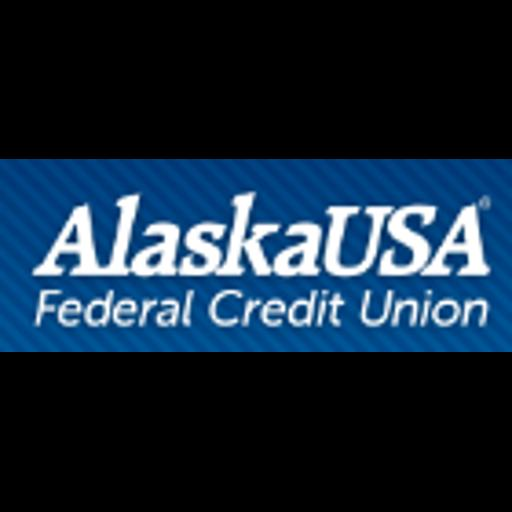Alaska USA Federal Credit Union: (0, 159, 512, 352)
